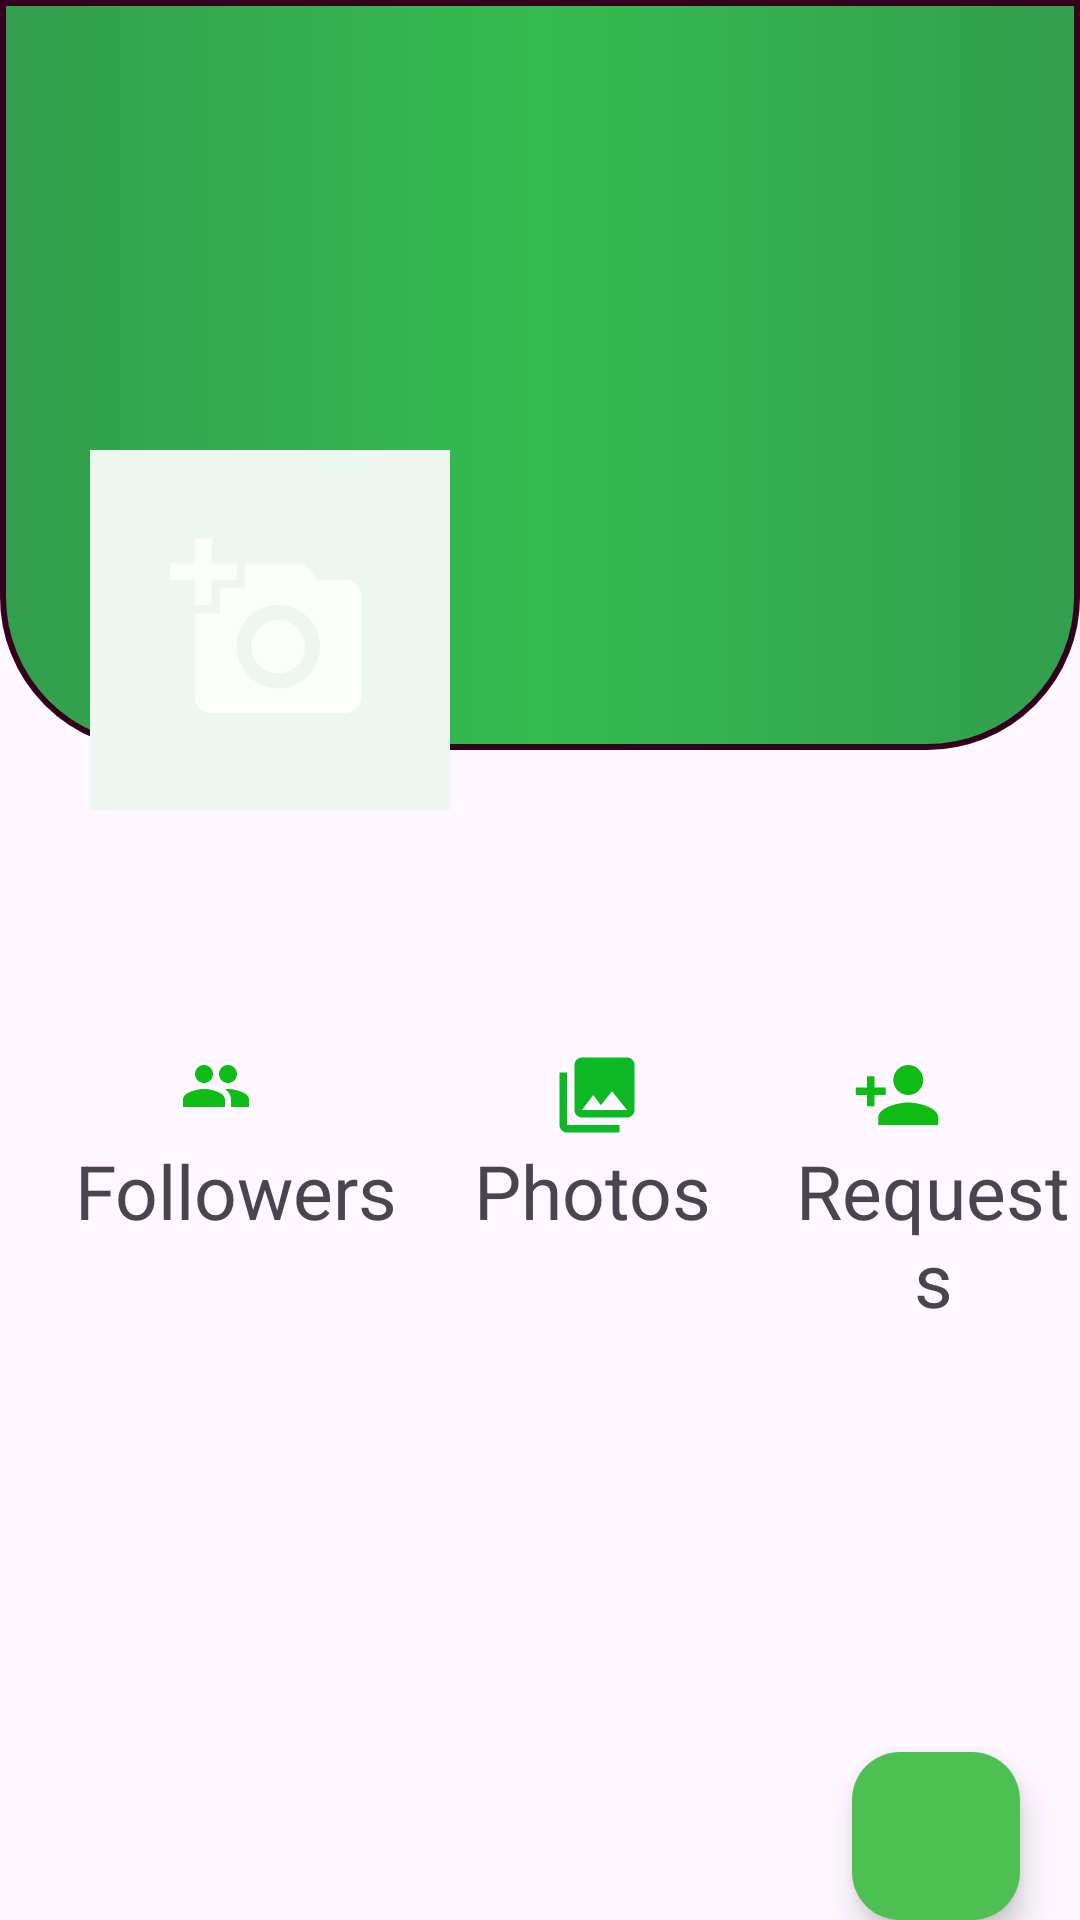

Named icons in this screenshot (1080x1920) and their bounding boxes, [left=x1, top=y1, right=x2, bottom=y2]:
people: [left=183, top=1065, right=249, bottom=1107]
person add: [left=855, top=1065, right=939, bottom=1125]
photo library: [left=559, top=1057, right=635, bottom=1133]
